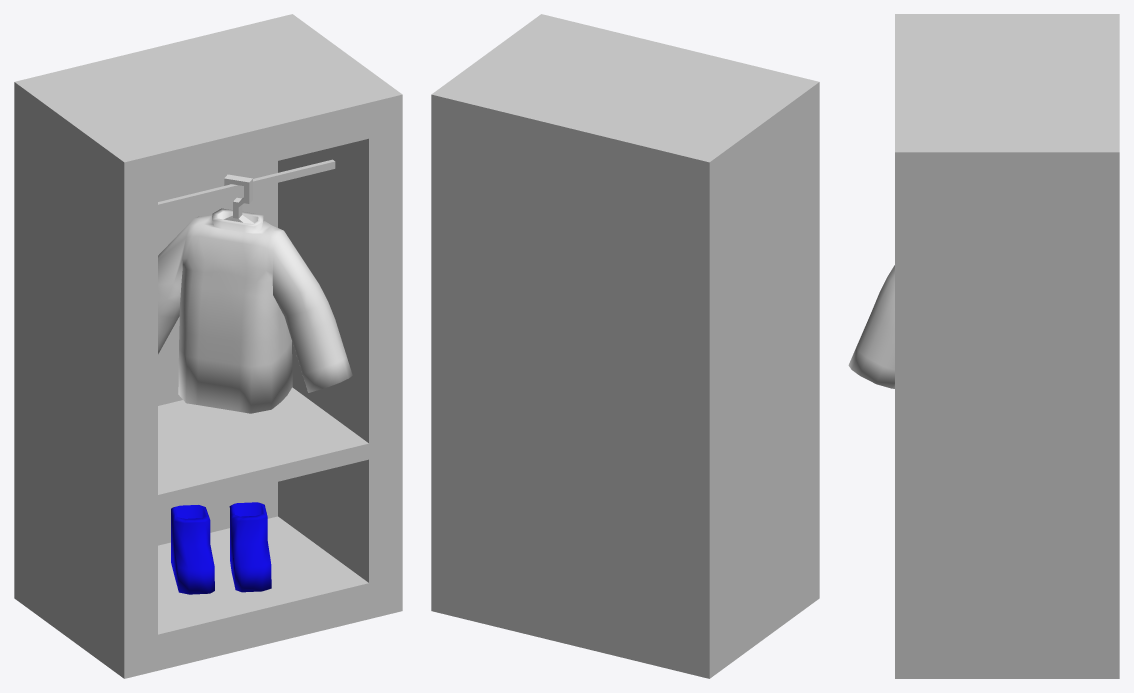
File: Locker.fbx
3 renders of one model, left to right at view 1: azimuth 30°, elevation 25°; view 2: azimuth 150°, elevation 25°; view 3: azimuth 270°, elevation 25°, orthographic.
Visible parts, largest first — view 1: Locker.001, Locker_Coat.002, Locker_Boots, Locker_Bar.001, Locker_Hanger.001; view 2: Locker.001; view 3: Locker.001, Locker_Coat.002.
Boxes of the visible parts, x1,y1,x2,y2 form: Locker.001: (14, 14, 402, 678); Locker_Coat.002: (158, 208, 352, 413); Locker_Boots: (171, 502, 271, 594); Locker_Bar.001: (158, 159, 335, 211); Locker_Hanger.001: (224, 174, 253, 223); Locker.001: (431, 14, 819, 678); Locker.001: (895, 14, 1119, 678); Locker_Coat.002: (848, 265, 894, 388).
Bounding box in the file's own units: 260 × 461 × 215.
